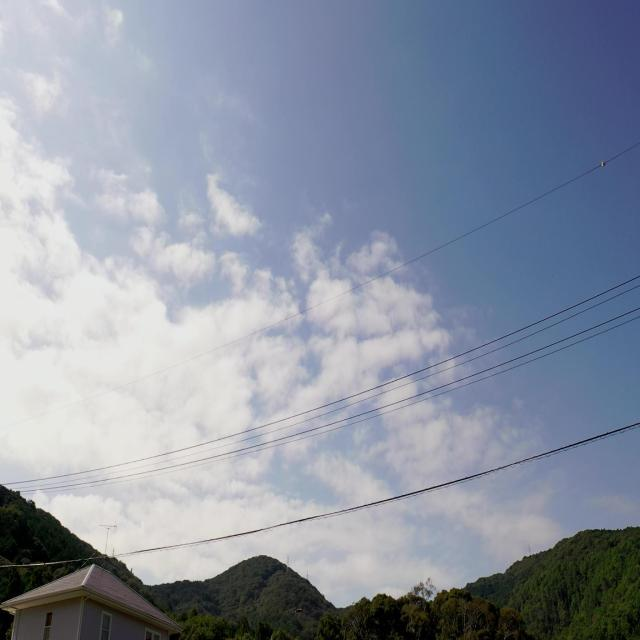Birds: (288, 598, 310, 622)
